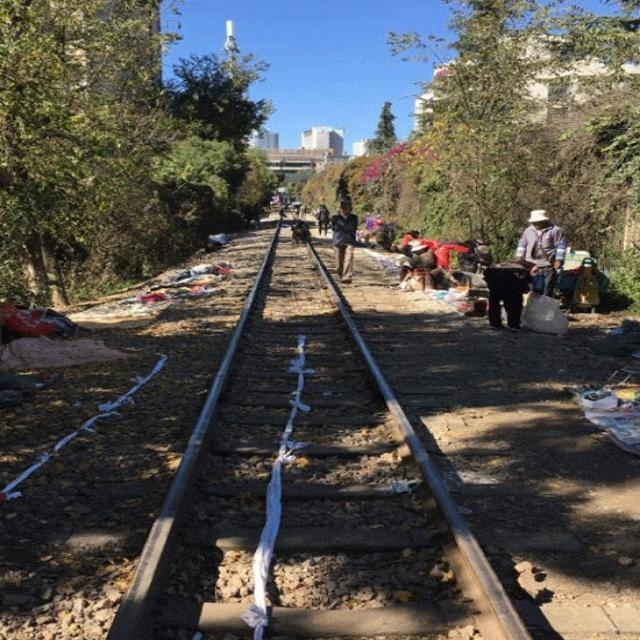people: (510, 211, 580, 314), (485, 251, 544, 337), (327, 202, 371, 287)
